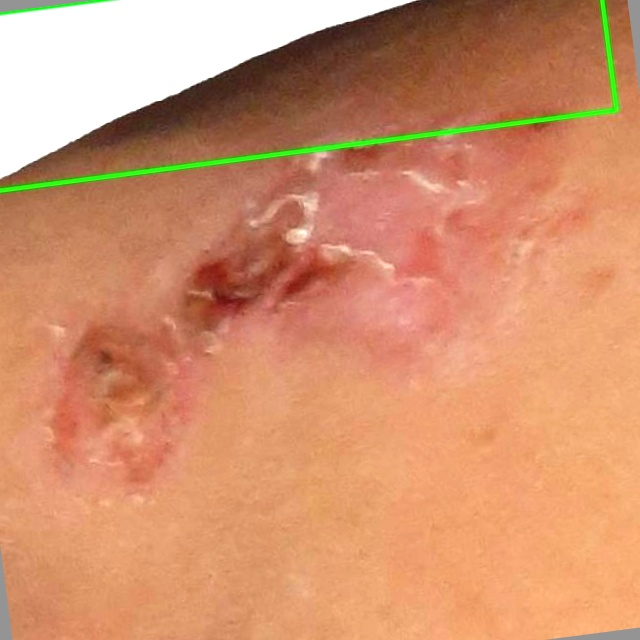Contact Dermatitis: (0, 0, 616, 190)
